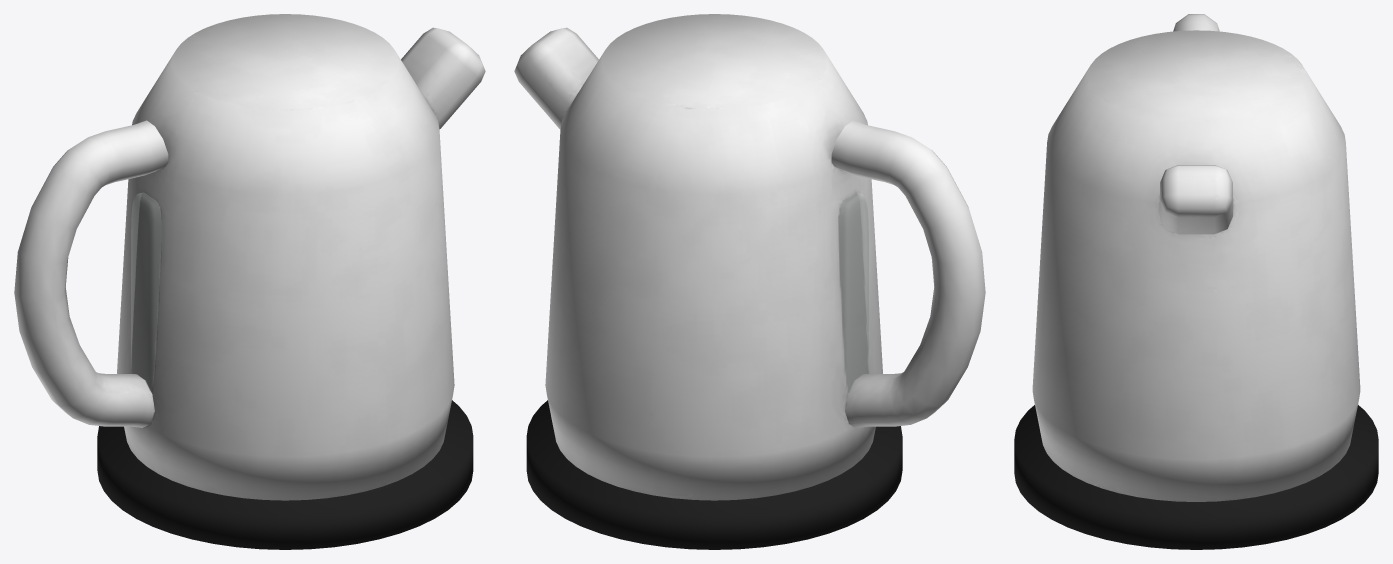
Rendered from electric-black.glb.
The picture shows the model from 3 angles, left to right: view 1: azimuth 30°, elevation 25°; view 2: azimuth 150°, elevation 25°; view 3: azimuth 270°, elevation 25°; orthographic projection. The views are drawn at different scales.
Visible parts, largest first — view 1: plastic_primary, base_black, window_glass; view 2: plastic_primary, base_black, window_glass; view 3: plastic_primary, base_black.
Boxes of the visible parts, x1,y1,x2,y2 form: plastic_primary: (14,14,485,500); base_black: (97,400,473,549); window_glass: (131,192,161,391); plastic_primary: (514,14,985,500); base_black: (526,400,902,549); window_glass: (838,192,868,390); plastic_primary: (1032,14,1360,501); base_black: (1014,405,1378,549).
Size of the model in its own units: 0.2798 by 0.24 by 0.2.
Materials: 3 (1 with a texture image).
